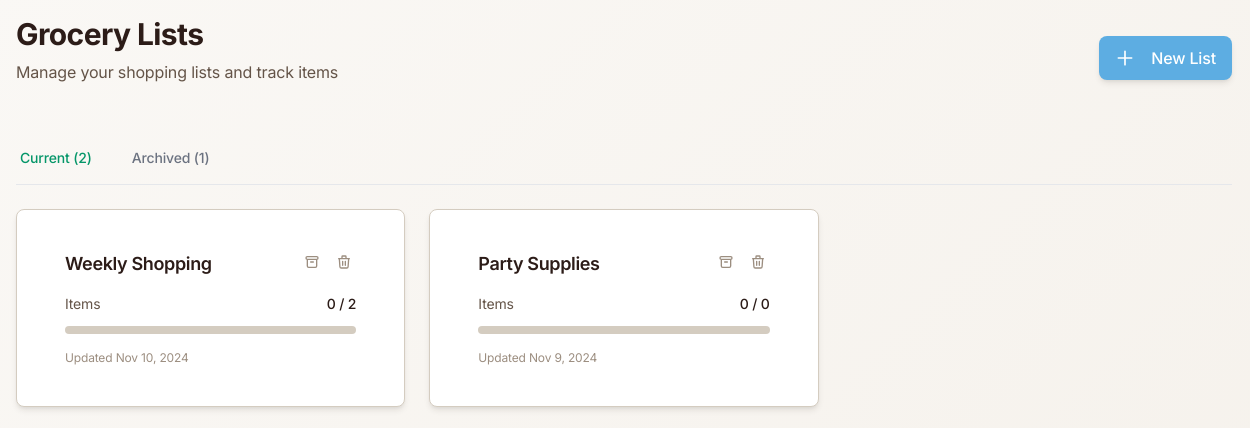
GroceryListsPage › Tabs functionality › should filter lists by archive status
The image size is (1250, 428).
Expected: the heading "Grocery Lists" is shown, [16, 16, 203, 52]
Expected: the heading "Weekly Shopping" is shown, [65, 253, 212, 274]
// Click Archived tab
Click the button "Archived (1)" at coordinates (171, 158), box [128, 132, 214, 184]
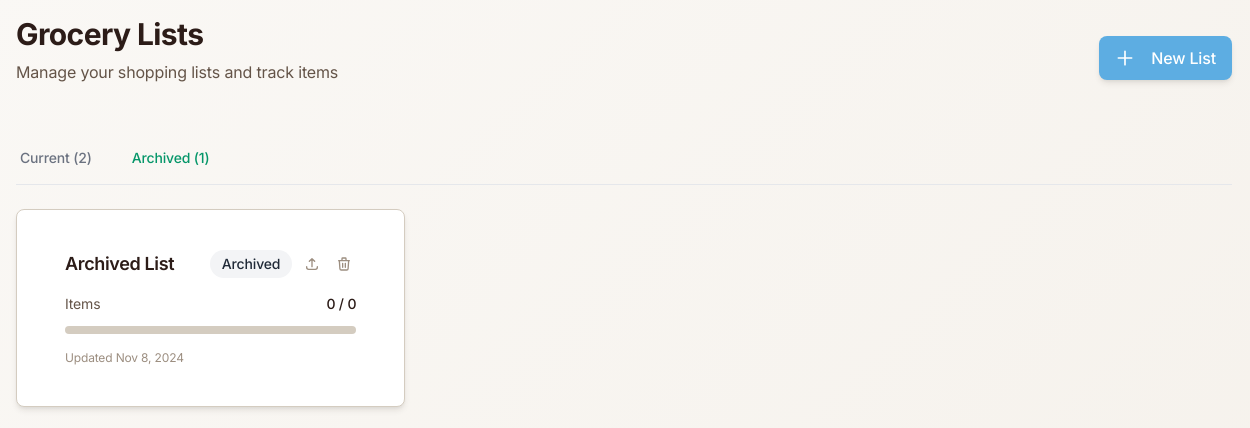
Expected: the heading "Archived List" is shown, [65, 253, 174, 274]
Expected: the link "Weekly Shopping" is gone
Expected: the link "Party Supplies" is gone
